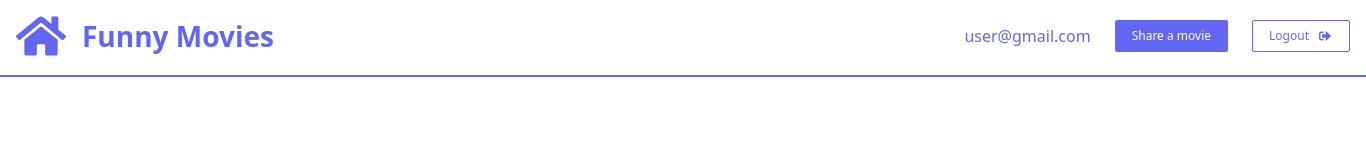
Test: Login › should show login form again and remove token from cookie when logout button is clicked
The image size is (1366, 160).
Click the button "Logout" at (1301, 36), box [1252,20,1350,52]
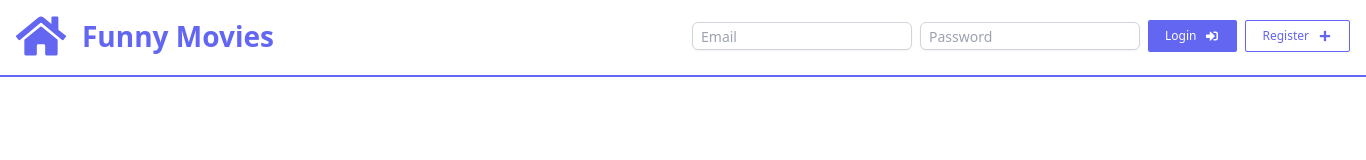
Check: the form with test id "login-form" is shown, box [692,20,1238,52]
